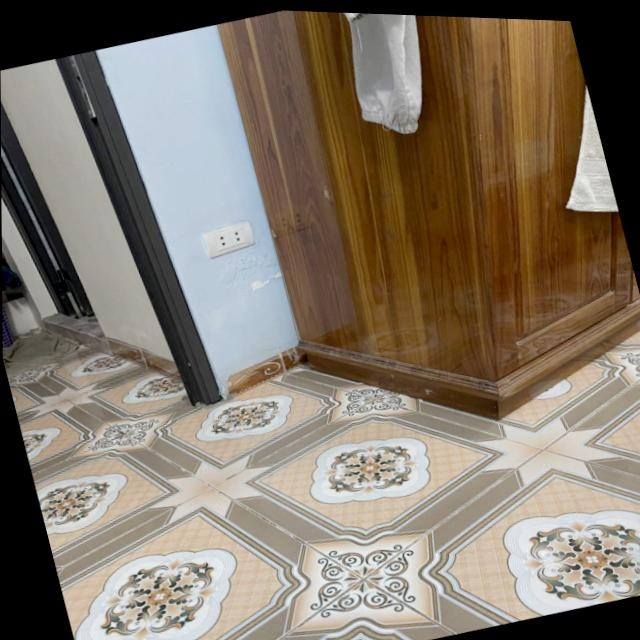outlet: (200, 217, 256, 260)
